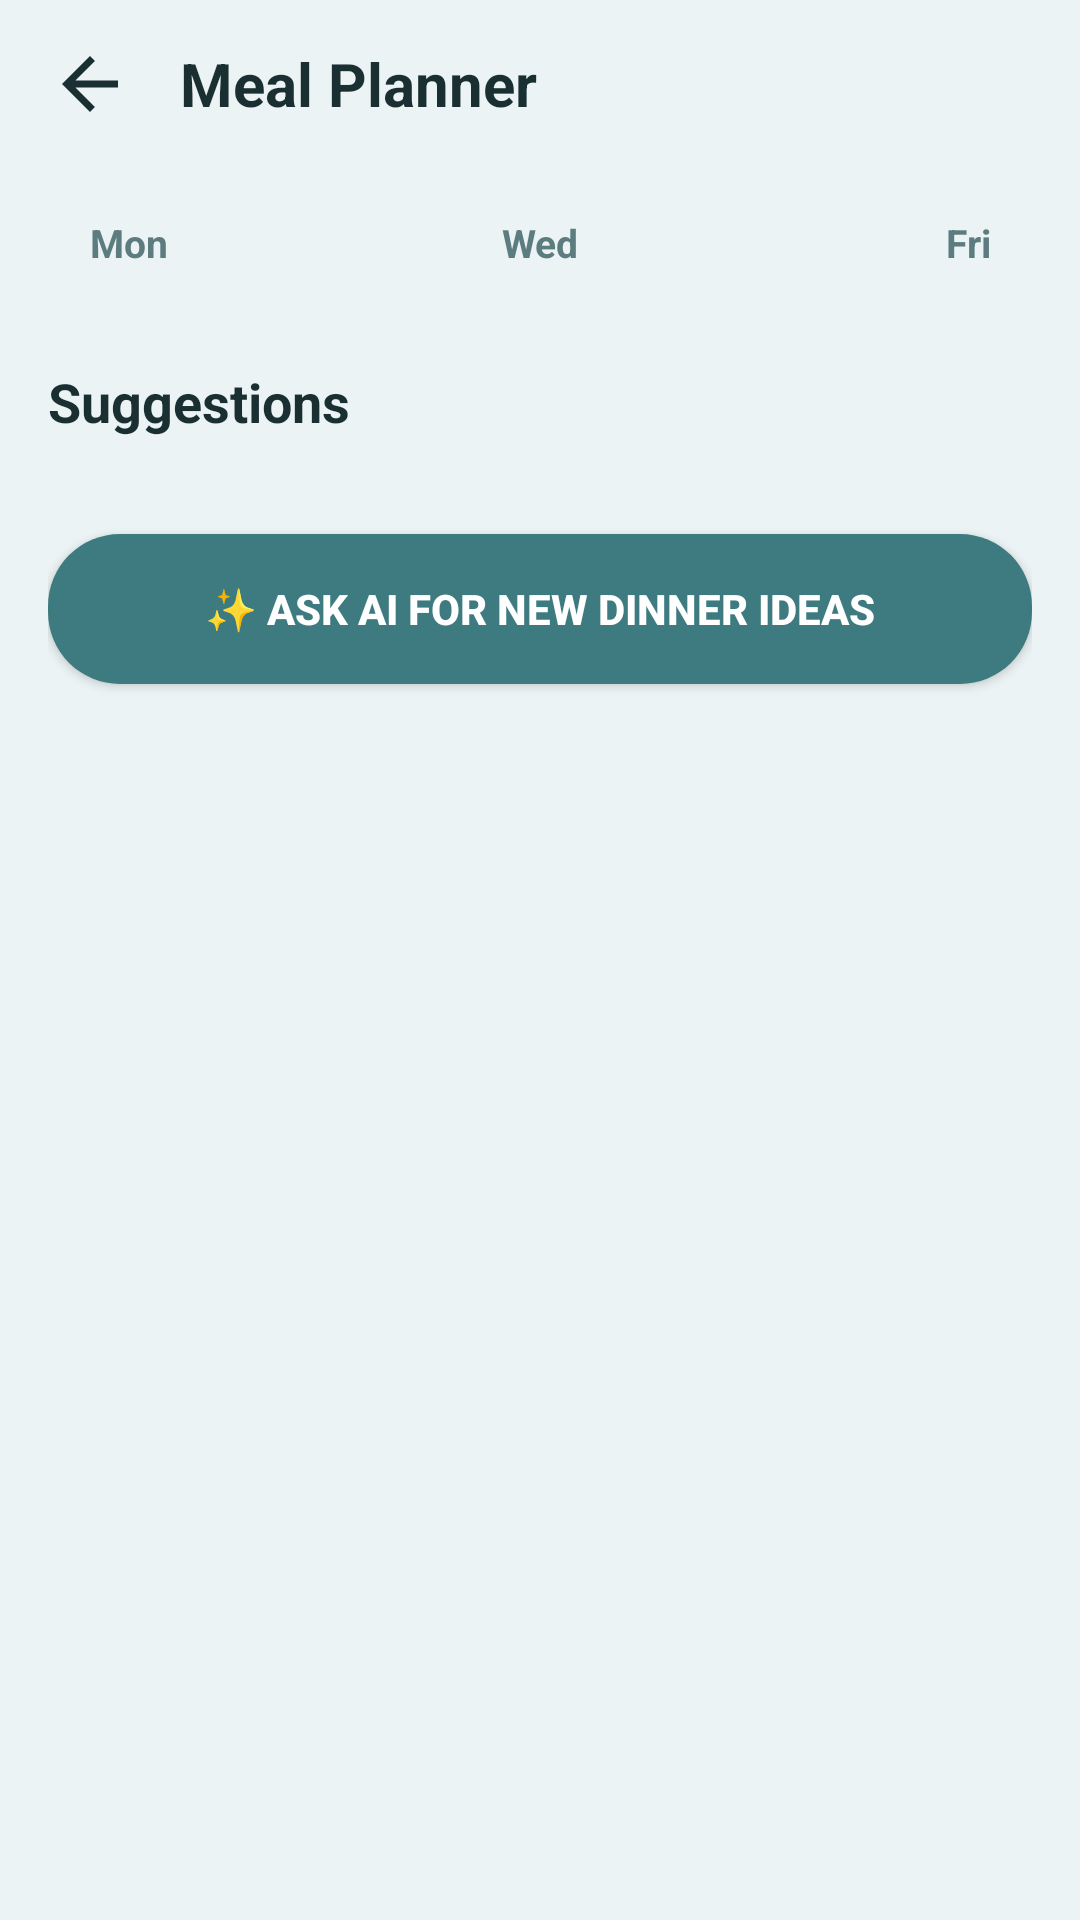

Where to tap for icons on this 1080 x 1920 app screen, as (x=x, y=y):
Back: (x=90, y=84)
